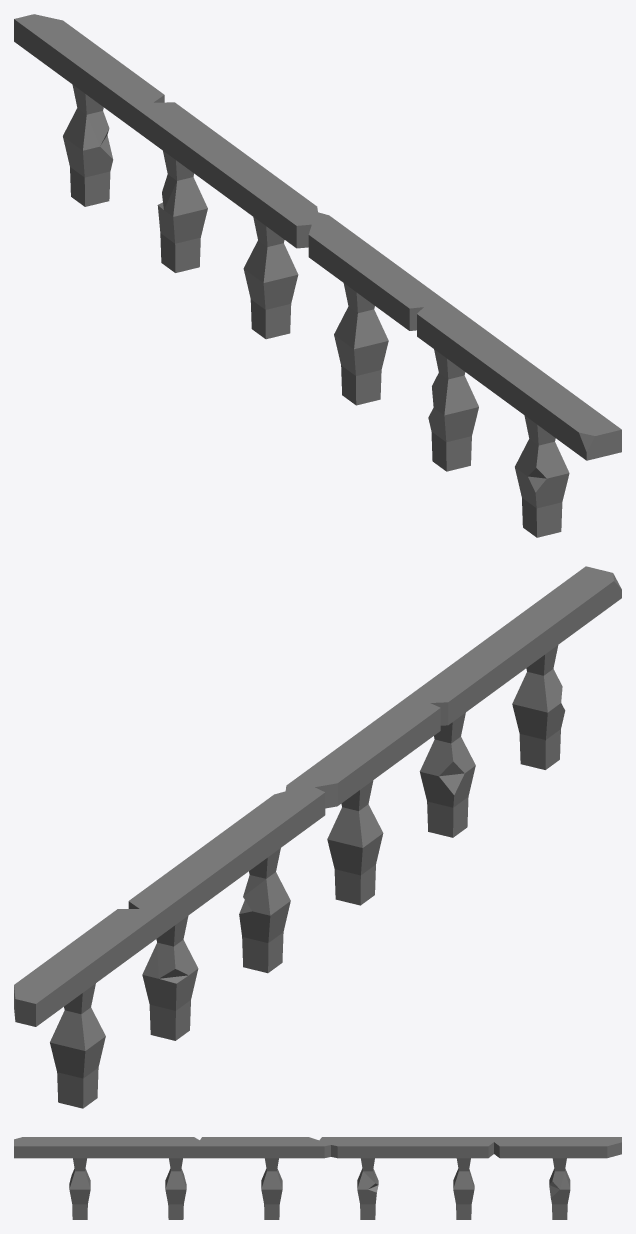
File: stone_9.fbx
3 views of the same model, one above another, from view 1: azimuth 30°, elevation 25°; view 2: azimuth 150°, elevation 25°; view 3: azimuth 270°, elevation 25° (orthographic). The views are drawn at different scales.
Visible parts, largest first — view 1: stone_9; view 2: stone_9; view 3: stone_9.
Part boxes in pixels (x1,y1,x2,y2): stone_9: (14, 14, 621, 537); stone_9: (14, 566, 621, 1108); stone_9: (14, 1137, 621, 1219).
Size of the model in its own units: 21.34 by 81.7 by 600.
